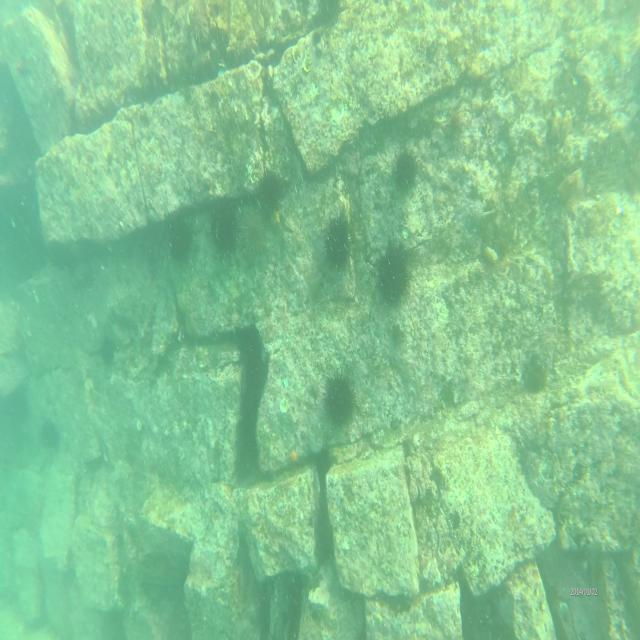echinus: (376, 238, 414, 307), (320, 365, 358, 428), (319, 208, 356, 266), (252, 166, 284, 220), (209, 194, 238, 250), (238, 206, 270, 253), (393, 145, 422, 195), (164, 220, 193, 264), (41, 418, 61, 446), (100, 336, 117, 368)
starfish: (288, 448, 300, 466)
